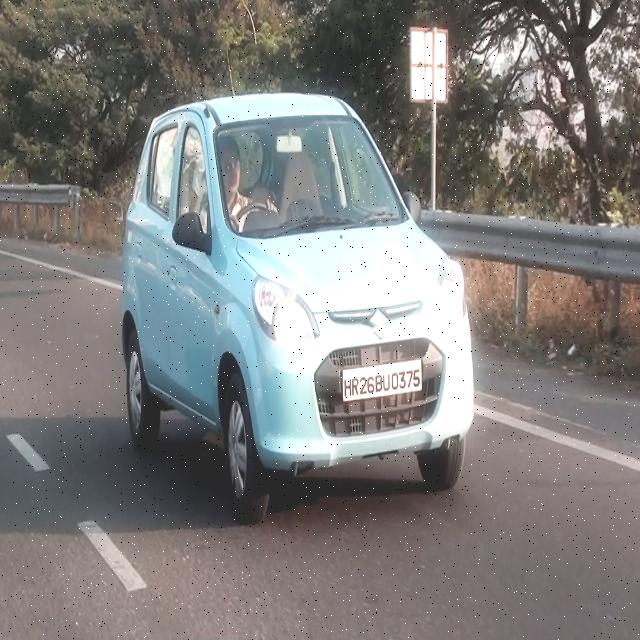plate: (339, 357, 423, 403)
